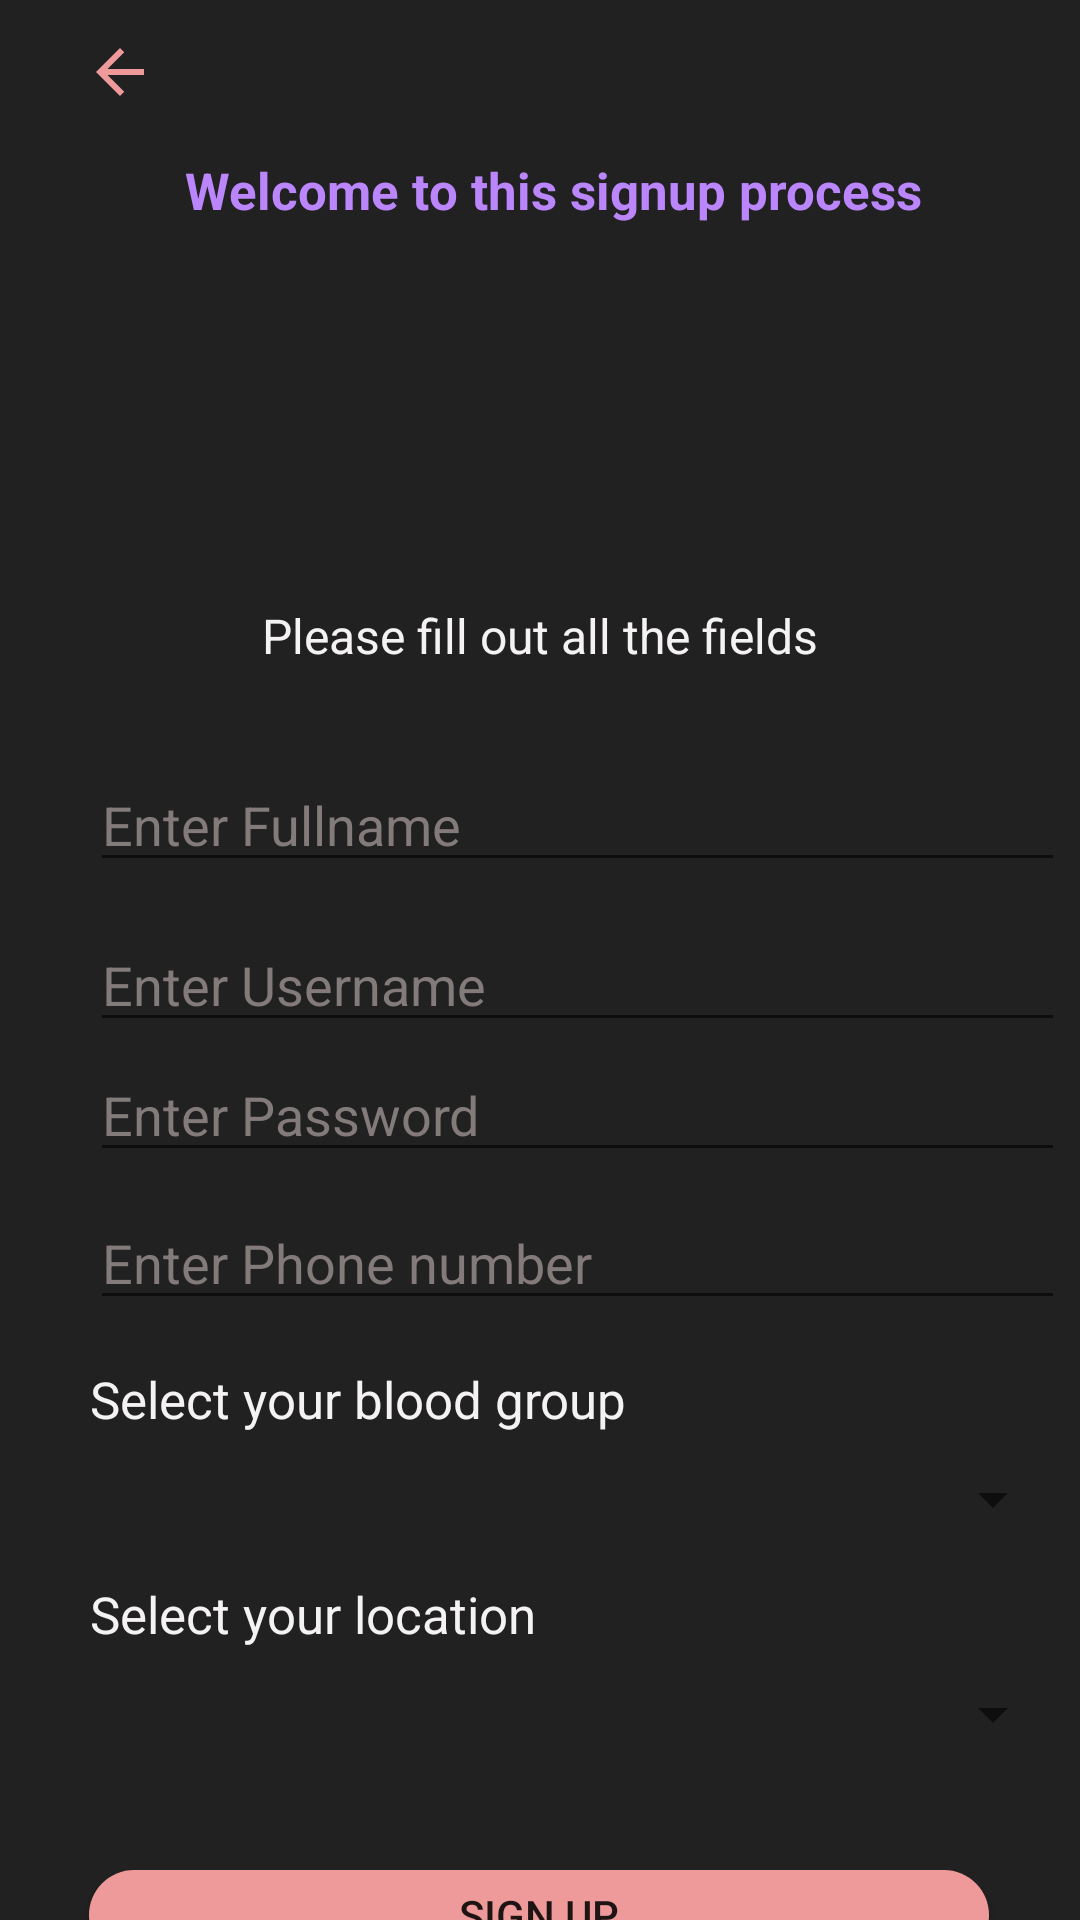

Named icons in this screenshot (1080x1920) and their bounding boxes, (x1, y1, x2, y2):
back: (96, 48, 144, 96)
